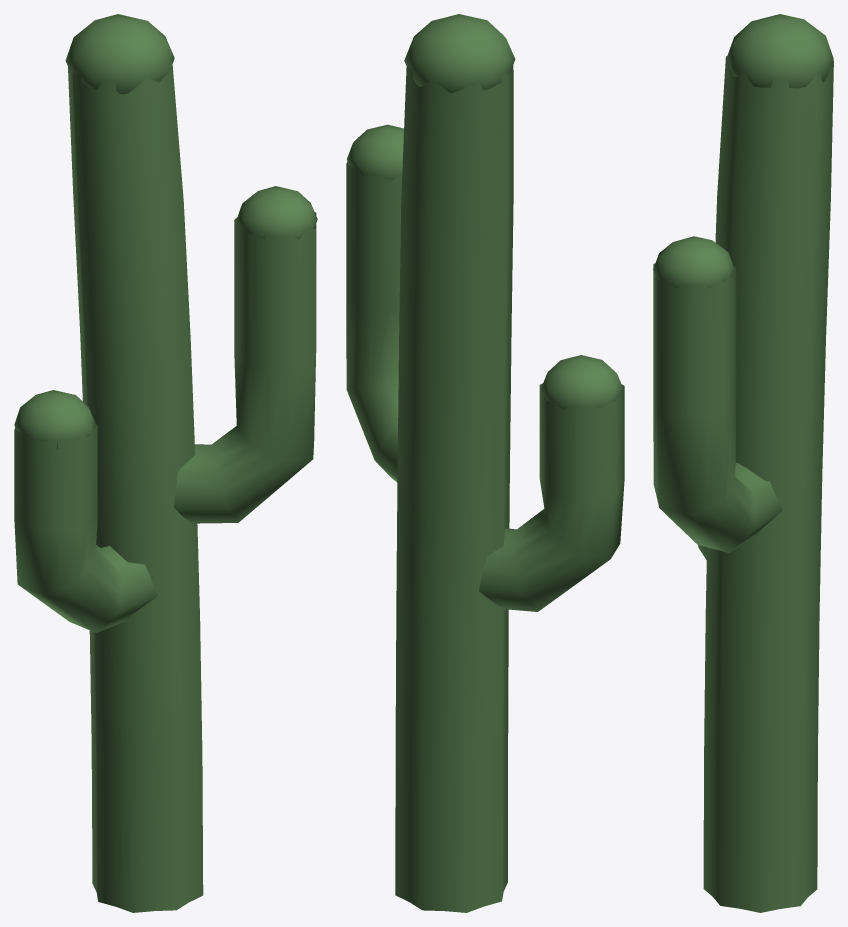
Rendered from saguaro_2_mid.glb.
3 renders of one model, left to right at view 1: azimuth 30°, elevation 25°; view 2: azimuth 150°, elevation 25°; view 3: azimuth 270°, elevation 25°, orthographic. The views are drawn at different scales.
Parts seen in each view (by area): view 1: saguaro_2_mid; view 2: saguaro_2_mid; view 3: saguaro_2_mid.
Boxes of the visible parts, x1,y1,x2,y2 form: saguaro_2_mid: (14,14,317,912); saguaro_2_mid: (346,14,624,912); saguaro_2_mid: (653,14,833,912).
Size of the model in its own units: 1.7 by 5.01 by 0.9553.
